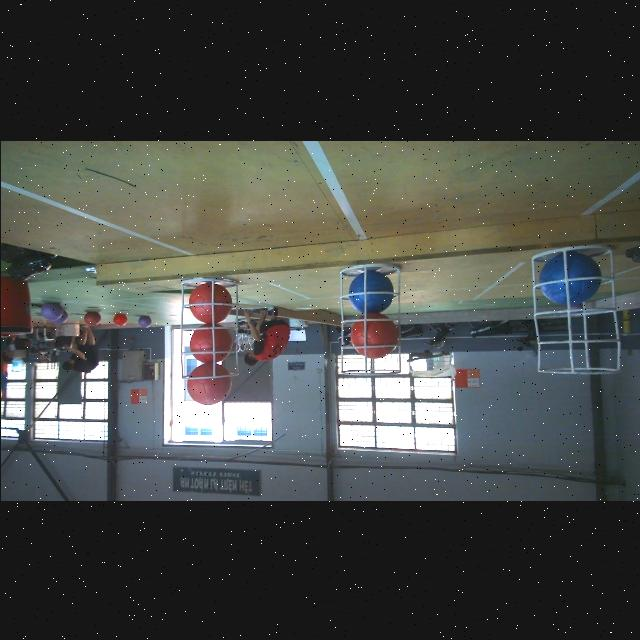B: (539, 253, 599, 305), (348, 270, 392, 314), (186, 362, 230, 404), (188, 322, 232, 362), (188, 281, 230, 321)
R: (348, 312, 396, 358)
